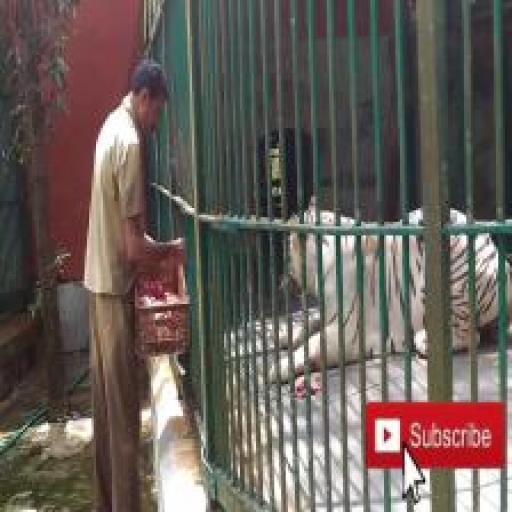Tiger: (362, 235, 381, 357), (341, 235, 359, 363), (475, 235, 499, 331), (385, 235, 404, 354), (322, 235, 339, 367), (451, 235, 469, 352), (410, 236, 426, 351), (309, 313, 321, 372), (290, 233, 301, 292), (307, 235, 318, 294), (293, 325, 304, 377), (506, 263, 512, 326), (409, 208, 423, 225), (280, 356, 289, 382), (451, 210, 466, 222), (321, 212, 333, 225), (305, 208, 315, 221)
